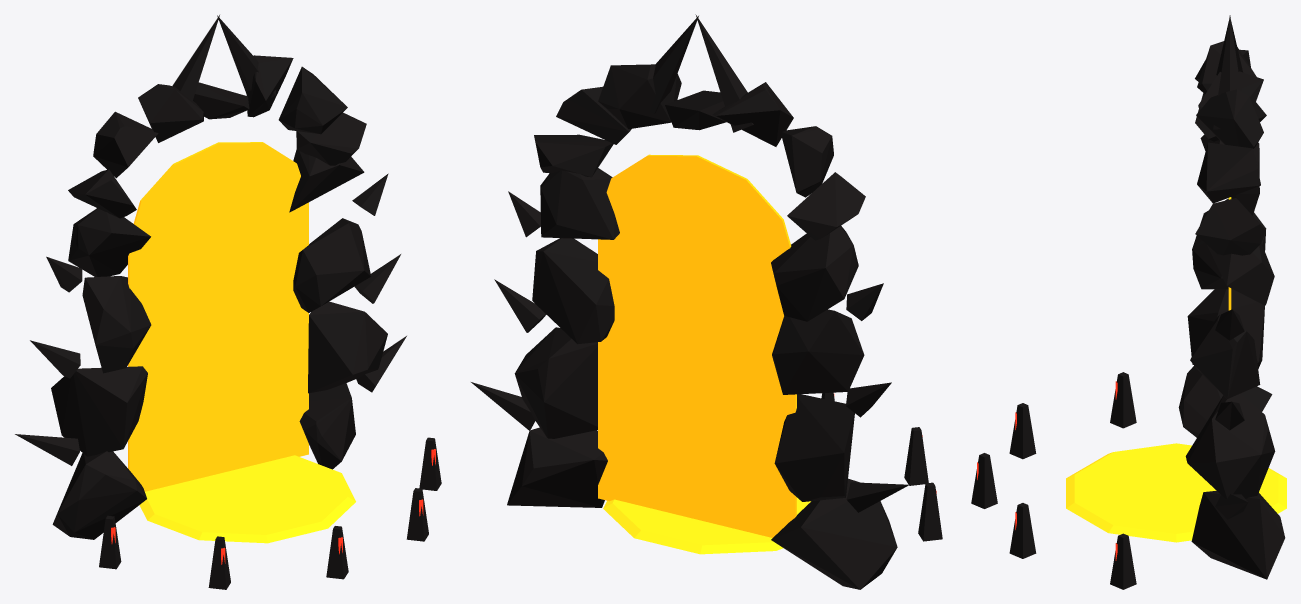
File: portal_infernal.fbx
The picture shows the model from 3 angles, left to right: view 1: azimuth 30°, elevation 25°; view 2: azimuth 150°, elevation 25°; view 3: azimuth 270°, elevation 25°; orthographic projection. The views are drawn at different scales.
Parts seen in each view (by area): view 1: portal_infernal; view 2: portal_infernal; view 3: portal_infernal.
Boxes of the visible parts, box(x1,y1,x2,y2) form: portal_infernal: box(15, 15, 441, 589); portal_infernal: box(471, 14, 942, 589); portal_infernal: box(971, 15, 1286, 589).
Size of the model in its own units: 10.6 by 12.54 by 7.07.
